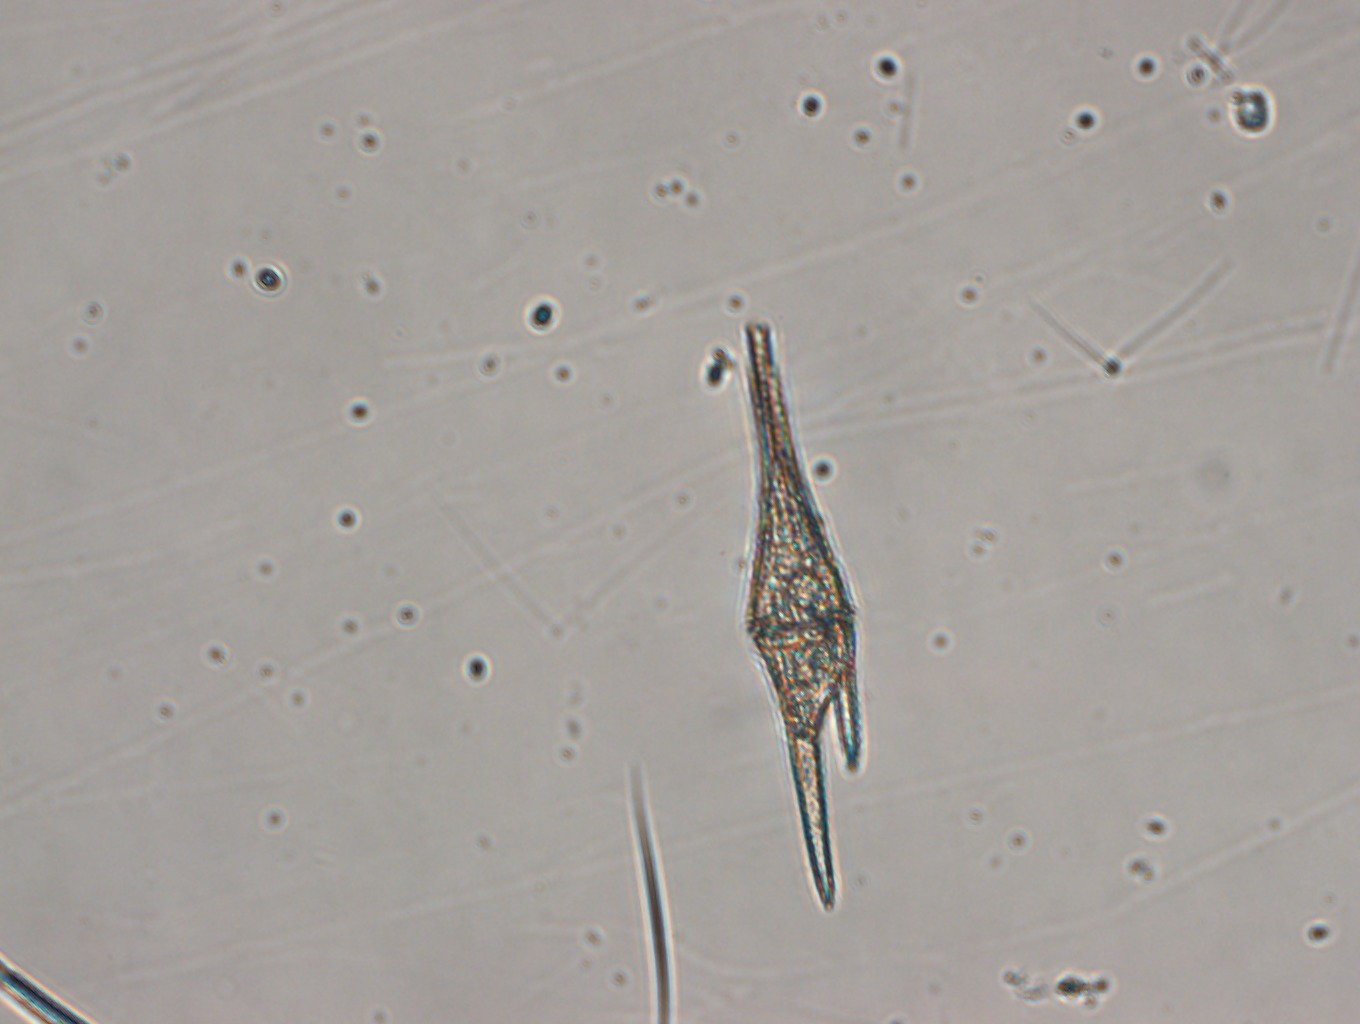ceratium furca: (745, 316, 861, 910)
